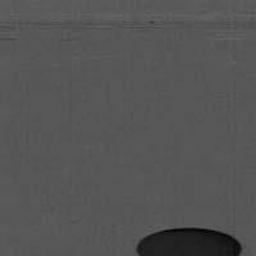Punching: (136, 227, 243, 256)
